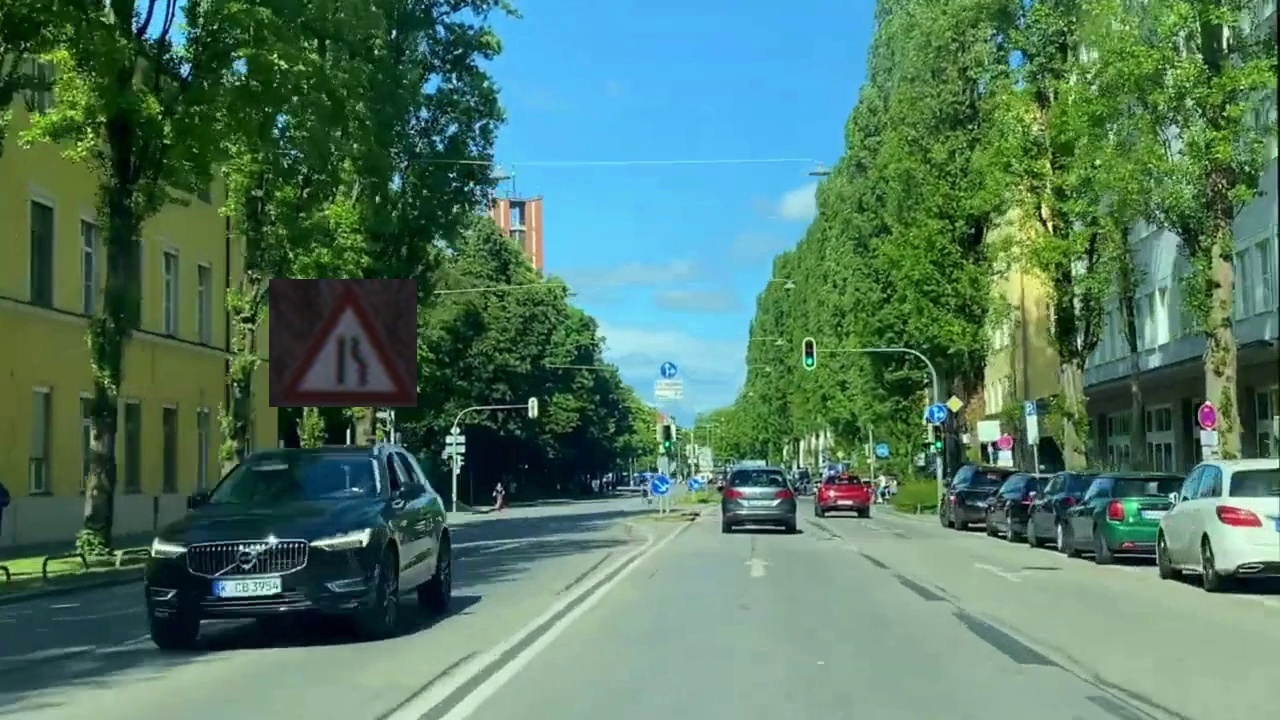Road narrows: (269, 279, 417, 407)
